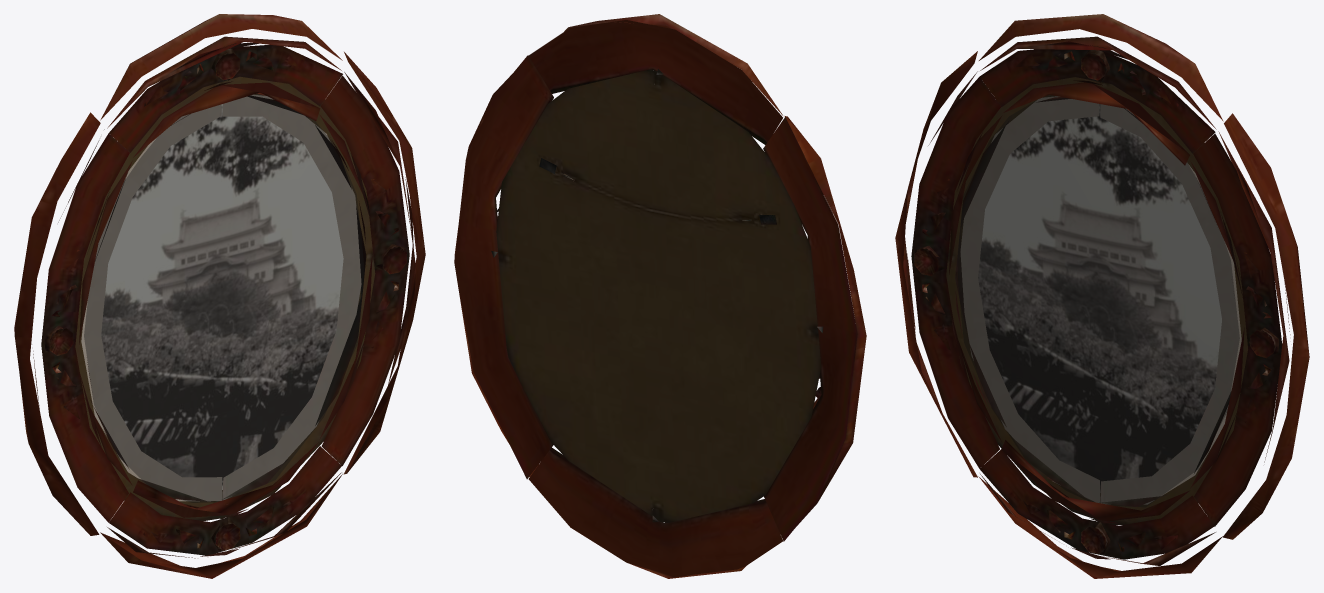
The model's file is ph_hanging_picture_frame_03.glb.
The picture shows the model from 3 angles, left to right: view 1: azimuth 30°, elevation 25°; view 2: azimuth 150°, elevation 25°; view 3: azimuth 330°, elevation 25°; orthographic projection.
Parts seen in each view (by area): view 1: hanging_picture_frame_03; view 2: hanging_picture_frame_03; view 3: hanging_picture_frame_03.
Part boxes in pixels (x1,y1,x2,y2): hanging_picture_frame_03: (14,14,425,578); hanging_picture_frame_03: (454,14,866,578); hanging_picture_frame_03: (895,14,1309,578).
Size of the model in its own units: 0.3892 by 0.5089 by 0.0342.
Materials: 3 (2 with a texture image).
